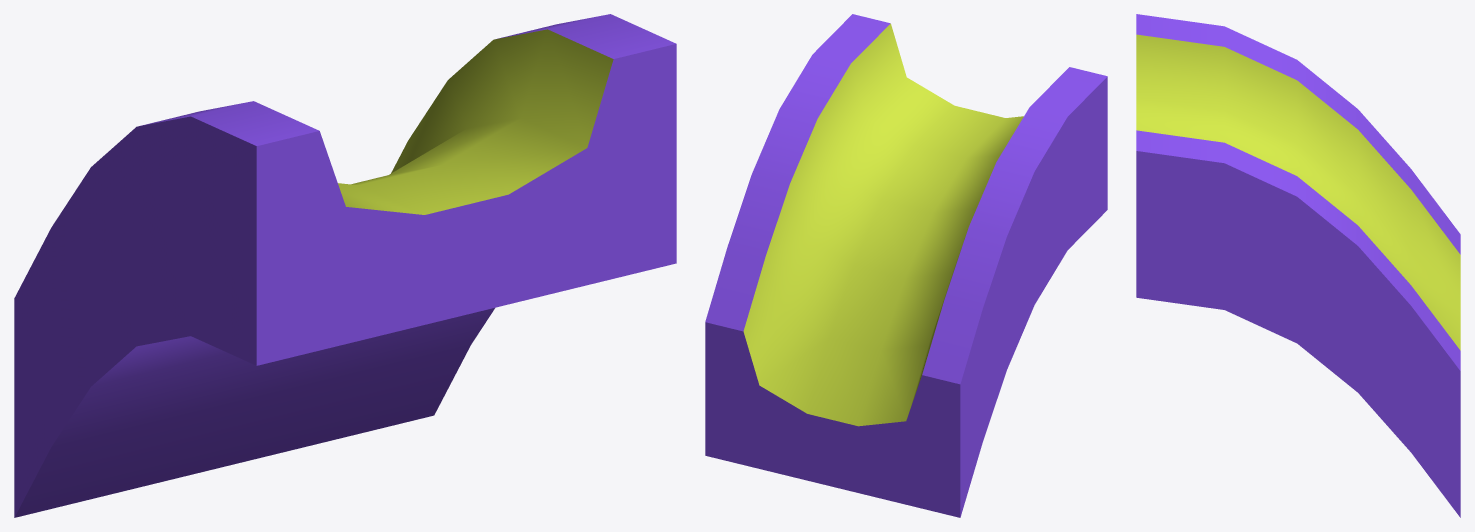
The model's file is rampEnd_D.fbx.
The picture shows the model from 3 angles, left to right: view 1: azimuth 30°, elevation 25°; view 2: azimuth 150°, elevation 25°; view 3: azimuth 270°, elevation 25°; orthographic projection. The views are drawn at different scales.
Parts seen in each view (by area): view 1: rampEnd_D; view 2: rampEnd_D; view 3: rampEnd_D.
Boxes of the visible parts, x1,y1,x2,y2 form: rampEnd_D: [14, 14, 676, 517]; rampEnd_D: [705, 14, 1107, 517]; rampEnd_D: [1136, 14, 1460, 517].
Size of the model in its own units: 10 by 12.5 by 10.
